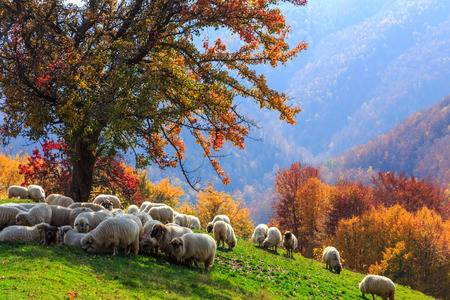sheep: (80, 218, 144, 254), (1, 221, 52, 255), (171, 233, 217, 269), (357, 271, 398, 300), (14, 201, 54, 223), (212, 220, 239, 248), (320, 244, 345, 274), (279, 225, 301, 258), (265, 225, 282, 255), (172, 210, 198, 229), (251, 223, 268, 249), (27, 182, 48, 202), (7, 185, 30, 200)
